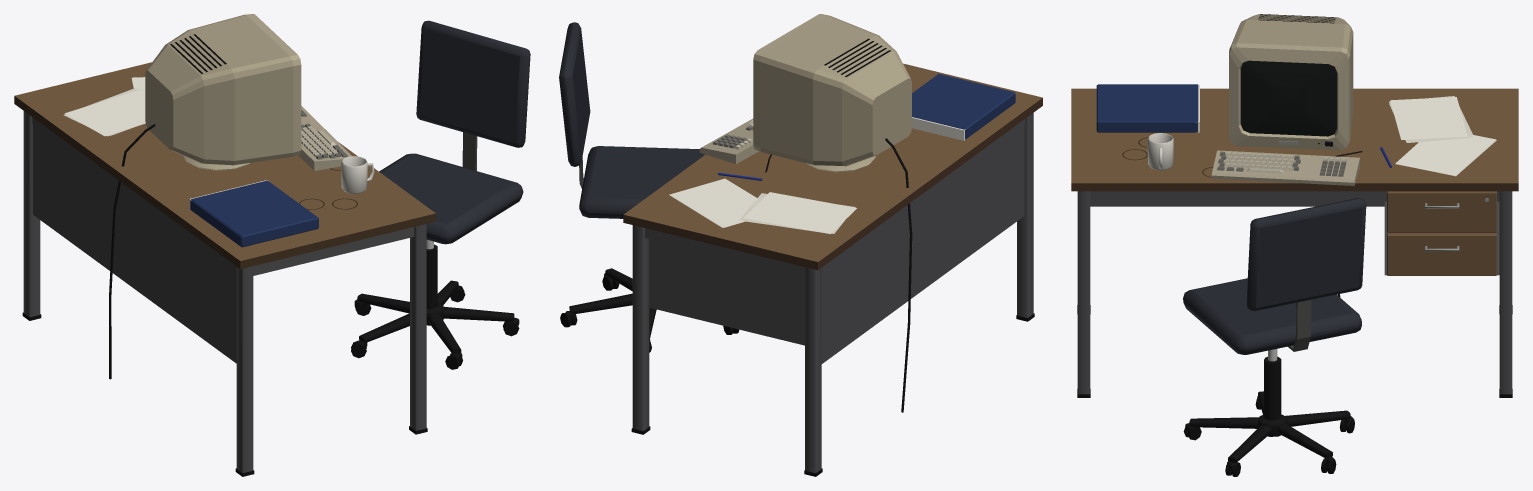
File: desk_crt@1.glb
The picture shows the model from 3 angles, left to right: view 1: azimuth 30°, elevation 25°; view 2: azimuth 150°, elevation 25°; view 3: azimuth 270°, elevation 25°; orthographic projection.
Parts seen in each view (by area): view 1: desk2, desk0, desk6, desk24, desk16, desk21, desk1, desk15, desk7, desk3, desk17, desk11 (+3 smaller); view 2: desk2, desk6, desk0, desk24, desk15, desk16, desk1, desk21, desk7, desk3, desk11, desk9; view 3: desk0, desk24, desk2, desk4, desk8, desk7, desk15, desk16, desk21, desk1, desk6, desk11 (+7 smaller).
Part boxes in pixels (bbox=[...]): desk2: bbox=[23, 111, 426, 472]; desk0: bbox=[14, 62, 435, 260]; desk6: bbox=[145, 15, 293, 170]; desk24: bbox=[379, 20, 530, 244]; desk16: bbox=[190, 180, 318, 247]; desk21: bbox=[354, 244, 519, 361]; desk1: bbox=[14, 96, 435, 269]; desk15: bbox=[64, 77, 267, 210]; desk7: bbox=[244, 14, 301, 156]; desk3: bbox=[22, 124, 427, 476]; desk17: bbox=[341, 156, 374, 193]; desk11: bbox=[298, 106, 351, 170]; desk2: bbox=[632, 113, 1033, 472]; desk6: bbox=[760, 15, 911, 172]; desk0: bbox=[624, 63, 1042, 261]; desk24: bbox=[559, 22, 704, 218]; desk15: bbox=[670, 117, 965, 233]; desk16: bbox=[912, 74, 1015, 139]; desk1: bbox=[623, 98, 1042, 270]; desk21: bbox=[565, 268, 656, 346]; desk7: bbox=[753, 14, 828, 151]; desk3: bbox=[631, 138, 1034, 476]; desk11: bbox=[699, 118, 758, 163]; desk9: bbox=[824, 38, 890, 76]; desk0: bbox=[1071, 88, 1518, 183]; desk24: bbox=[1183, 198, 1366, 354]; desk2: bbox=[1077, 191, 1512, 394]; desk4: bbox=[1387, 191, 1496, 275]; desk8: bbox=[1240, 60, 1337, 136]; desk7: bbox=[1229, 43, 1350, 150]; desk15: bbox=[1196, 84, 1495, 175]; desk16: bbox=[1096, 84, 1198, 132]; desk21: bbox=[1185, 356, 1353, 470]; desk1: bbox=[1071, 183, 1518, 191]; desk6: bbox=[1230, 14, 1353, 137]; desk11: bbox=[1211, 150, 1359, 185].
Size of the model in its own units: 1.37 by 1.13 by 1.4.
